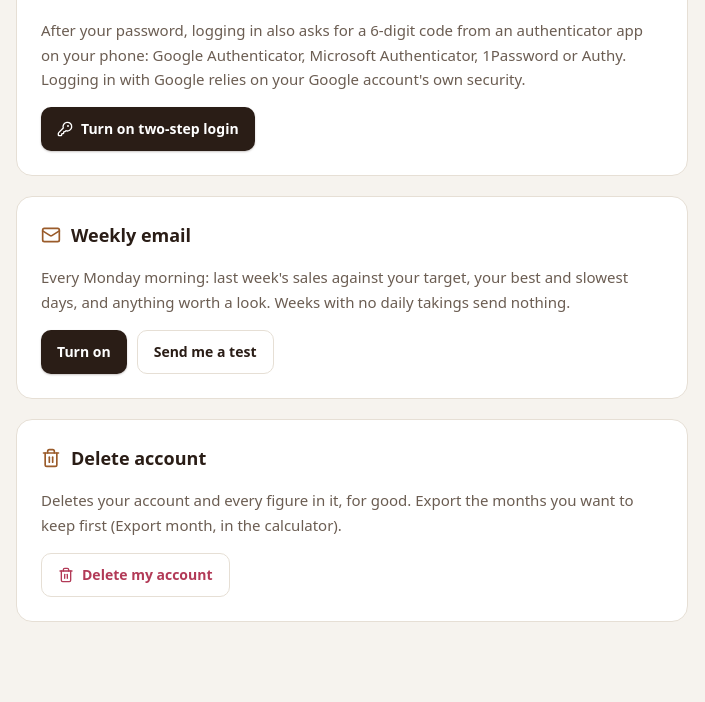
the weekly email card › sends a test and says where
(page scrolled)
Click the button "Send me a test" at {"x": 205, "y": 352}, box [137,330,274,374]
(page scrolled)
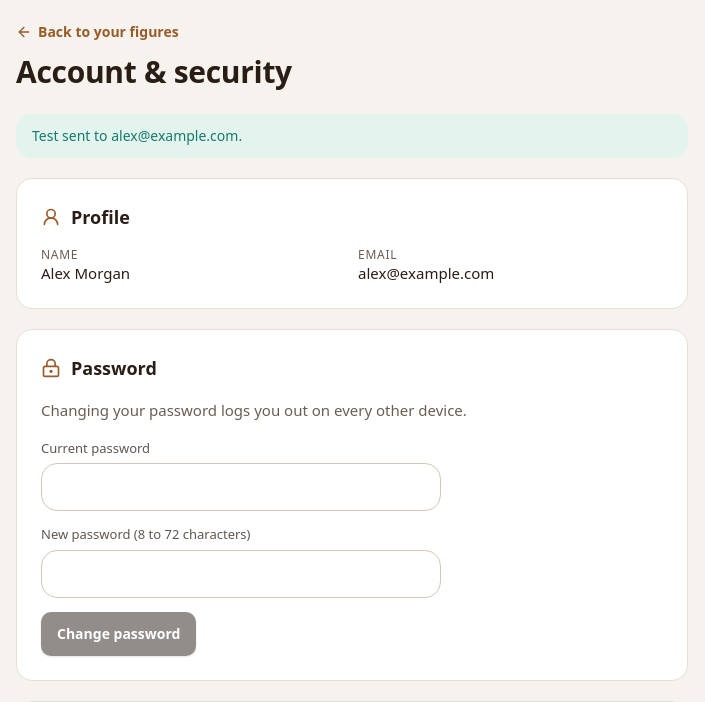
Check: the text "Test sent to alex@example.com." is shown, box [16,114,688,158]
